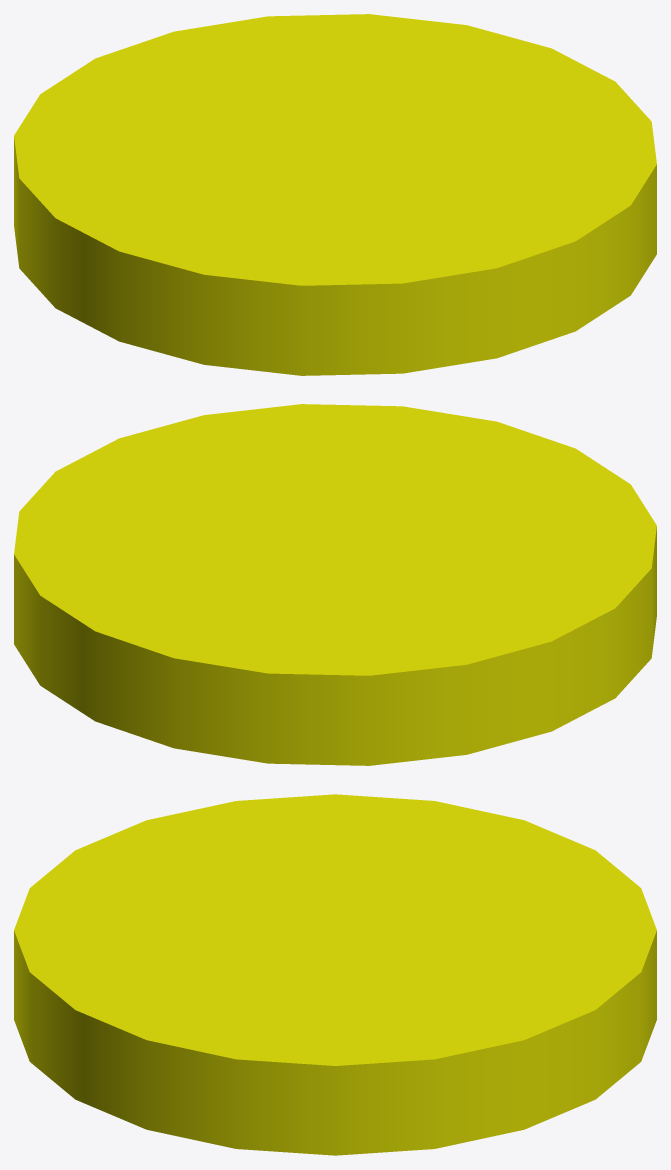
The model's file is sari.fbx.
The picture shows the model from 3 angles, top to bottom: view 1: azimuth 30°, elevation 25°; view 2: azimuth 150°, elevation 25°; view 3: azimuth 270°, elevation 25°; orthographic projection.
Visible parts, largest first — view 1: pCylinder5; view 2: pCylinder5; view 3: pCylinder5.
Boxes of the visible parts, x1=… form: pCylinder5: x1=14, y1=14, x2=656, y2=375; pCylinder5: x1=14, y1=404, x2=656, y2=765; pCylinder5: x1=14, y1=794, x2=656, y2=1155.
Size of the model in its own units: 6.28 by 0.9651 by 6.28.
